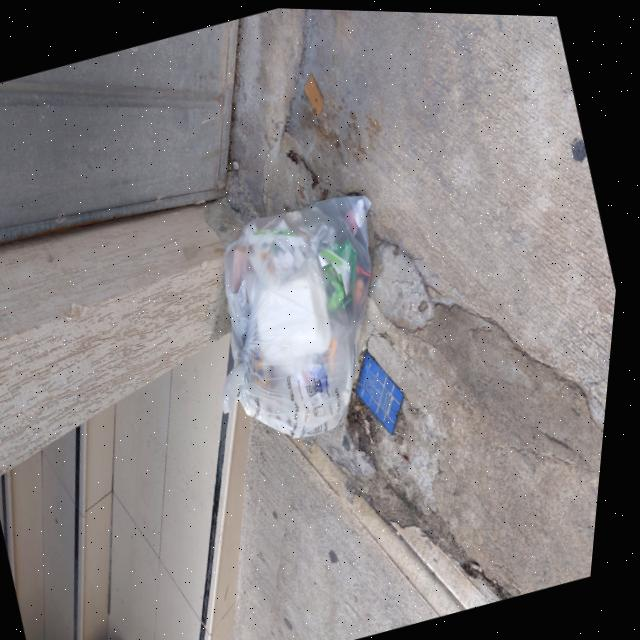Recycled Waste -Grey or Green Bag-: (175, 180, 440, 459)
